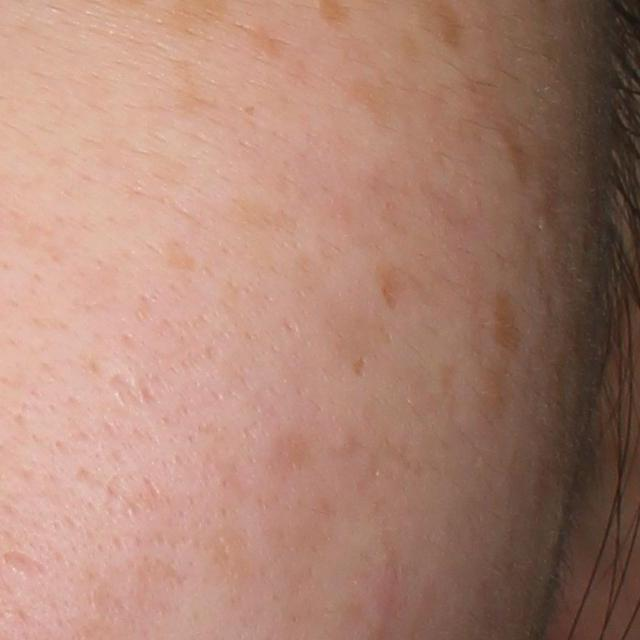atrophic_scar: (109, 366, 148, 417), (0, 548, 52, 583)
melasma: (227, 194, 307, 243), (342, 74, 395, 133), (175, 55, 215, 121), (488, 281, 523, 354), (224, 22, 283, 64)
